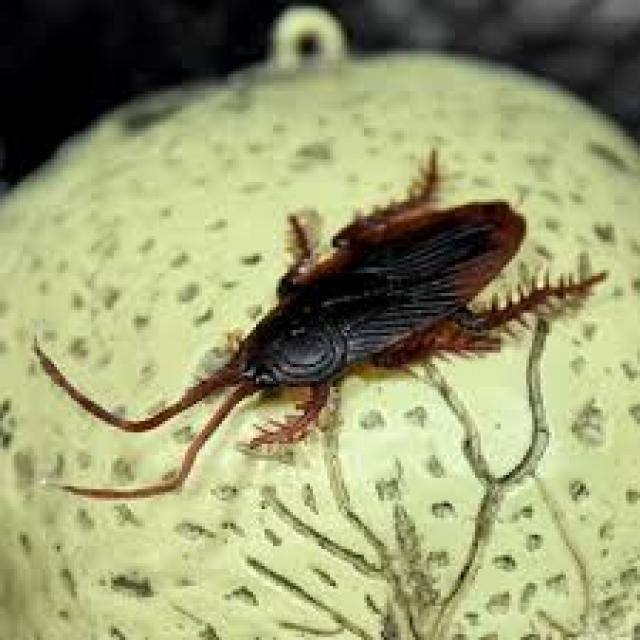Cockroach: (38, 142, 640, 496)
